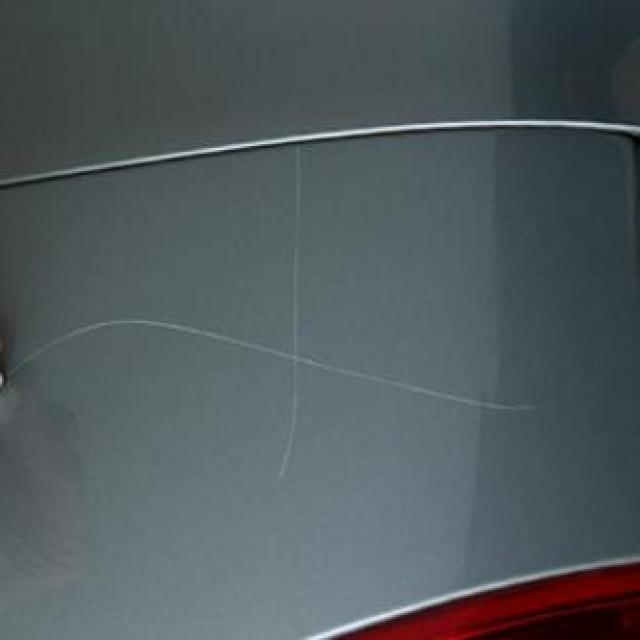scratch: (5, 308, 561, 424), (264, 131, 310, 492)
